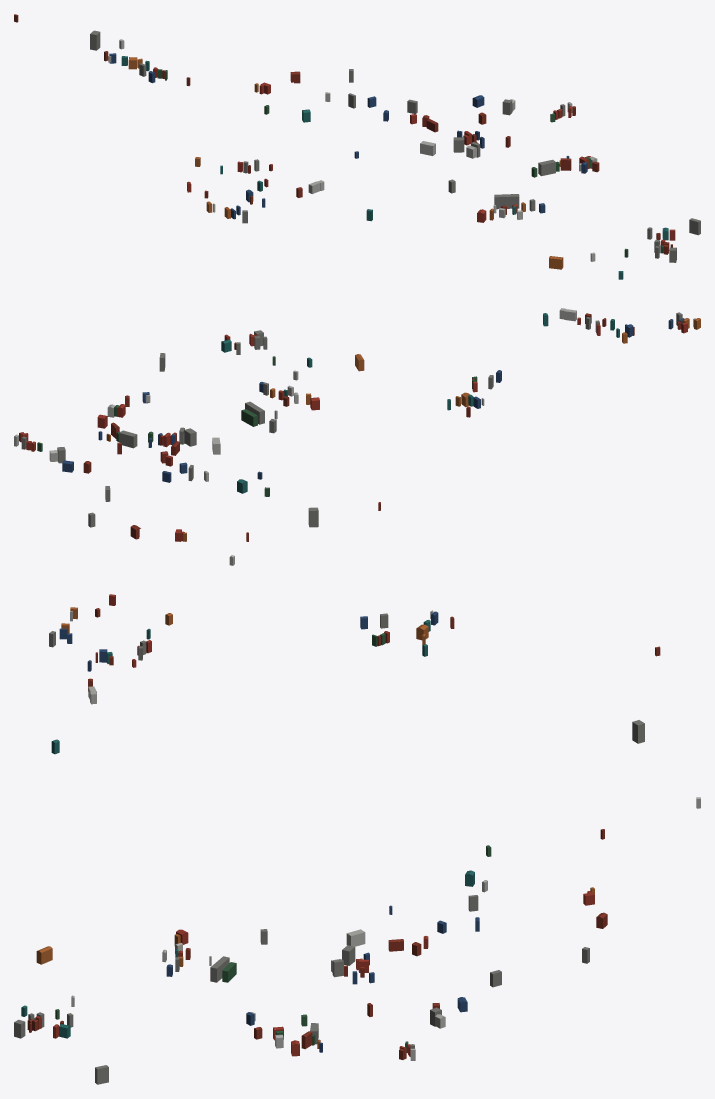
The model's file is near-15-27357-14863.604f32d7.glb.
The picture shows the model from 3 angles, top to bottom: view 1: azimuth 30°, elevation 25°; view 2: azimuth 150°, elevation 25°; view 3: azimuth 270°, elevation 25°; orthographic projection. The views are drawn at different scales.
Size of the model in its own units: 1138 by 396 by 1123.
